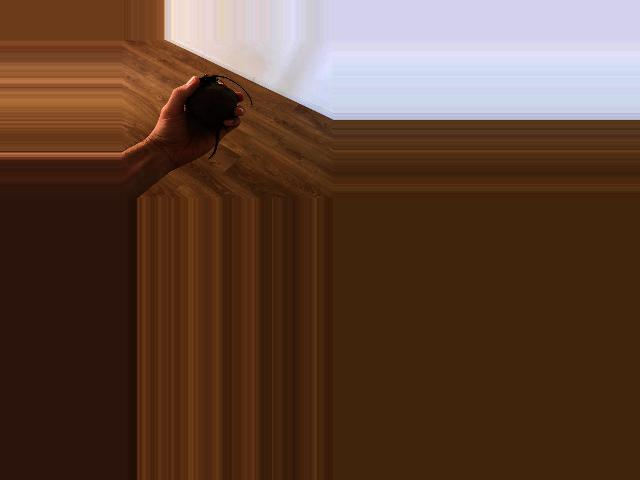beet: (186, 74, 253, 158)
